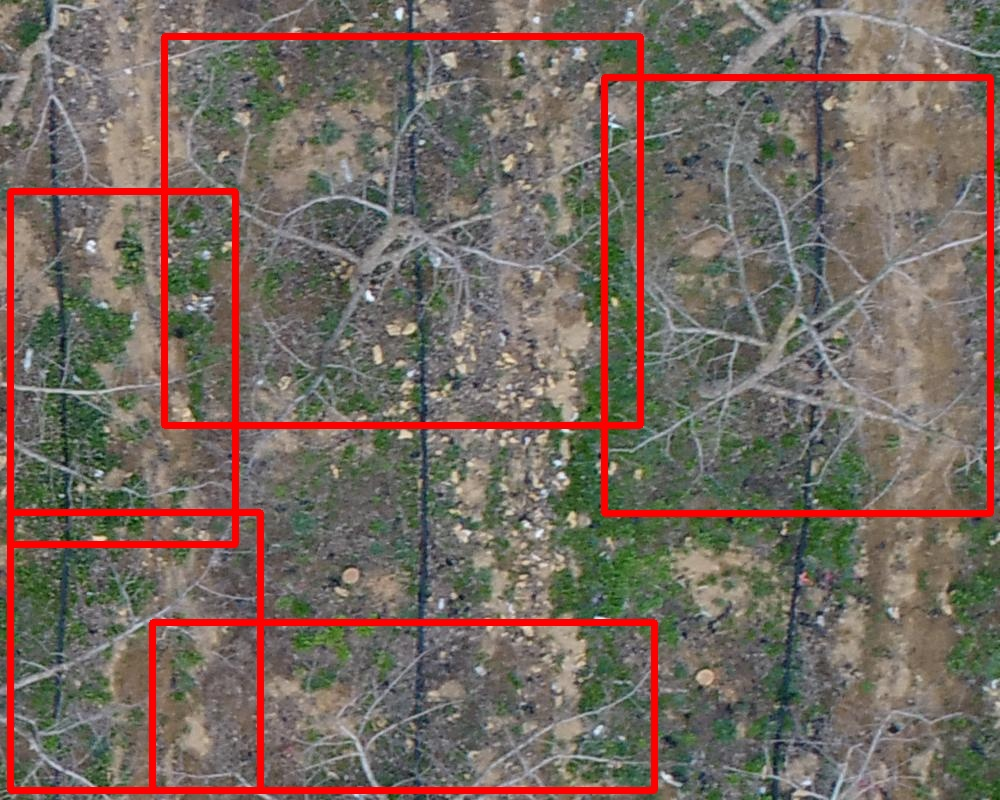apple: (164, 36, 640, 425), (604, 77, 990, 513), (152, 622, 654, 790), (10, 191, 235, 544), (10, 512, 260, 790)
